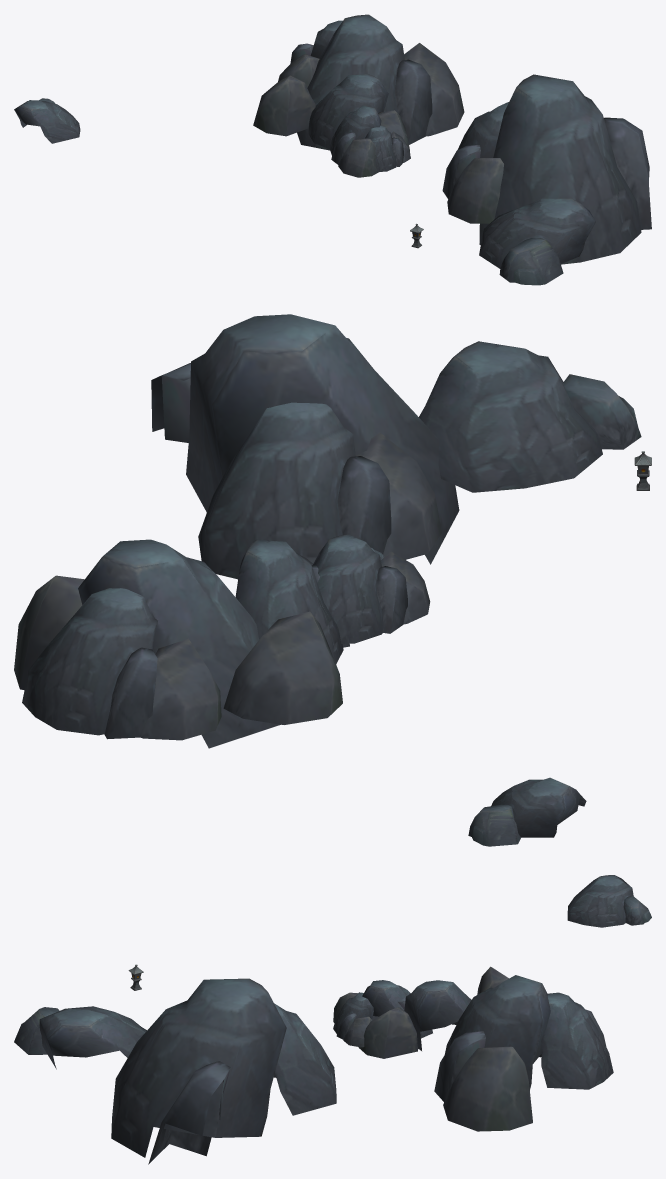
File: Area_08_14.fbx
The picture shows the model from 3 angles, top to bottom: view 1: azimuth 30°, elevation 25°; view 2: azimuth 150°, elevation 25°; view 3: azimuth 270°, elevation 25°; orthographic projection. The views are drawn at different scales.
Parts seen in each view (by area): view 1: Area_08_14; view 2: Area_08_14; view 3: Area_08_14.
Part boxes in pixels (box(x1,y1,x2,y2)): Area_08_14: box(14, 14, 651, 285); Area_08_14: box(14, 314, 651, 846); Area_08_14: box(14, 875, 651, 1164).
Size of the model in its own units: 4779 by 1375 by 5546.
